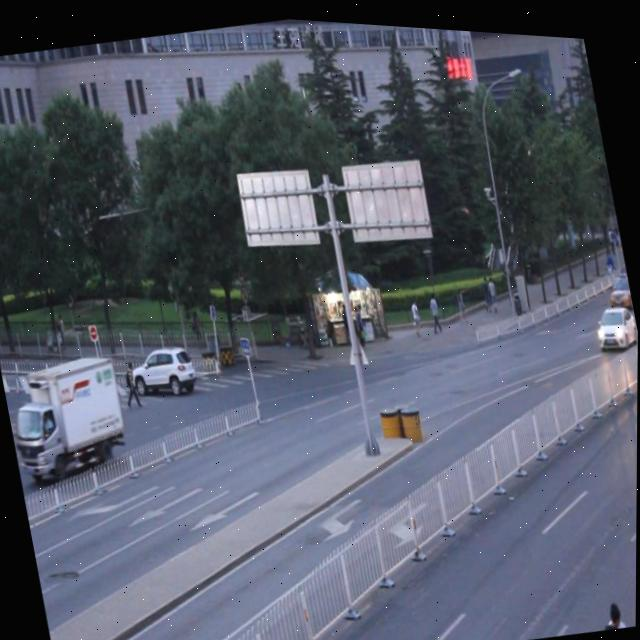bus: (5, 344, 132, 485)
car: (126, 335, 200, 399), (590, 293, 638, 347), (603, 263, 634, 301)
